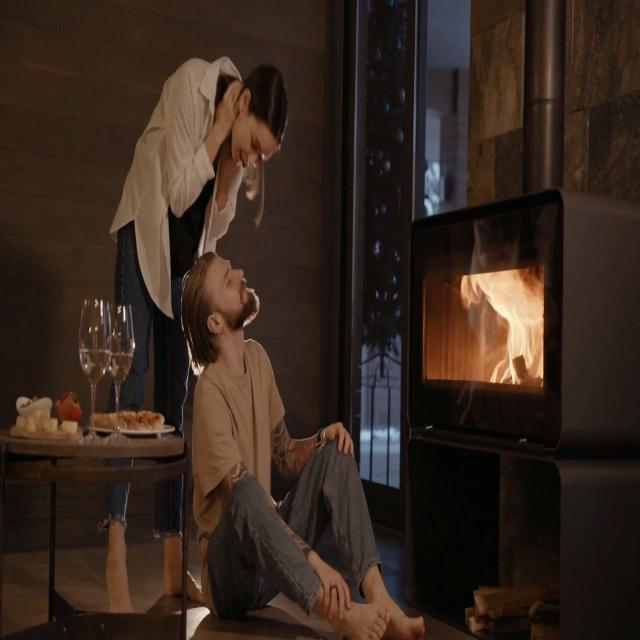Fire: (458, 268, 549, 382)
